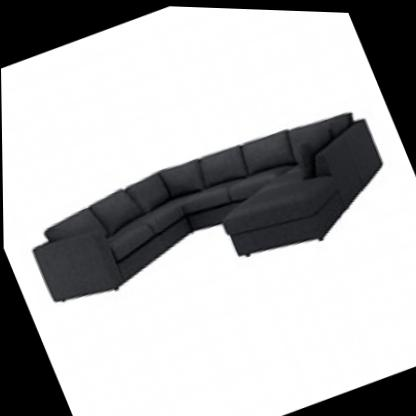Sofa: (1, 55, 413, 362)
